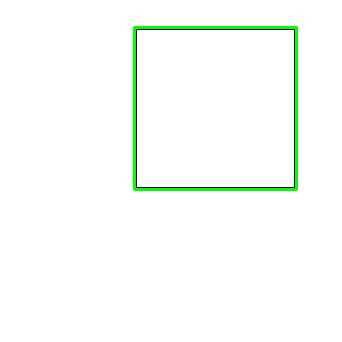line_segment: (133, 26, 298, 191)
